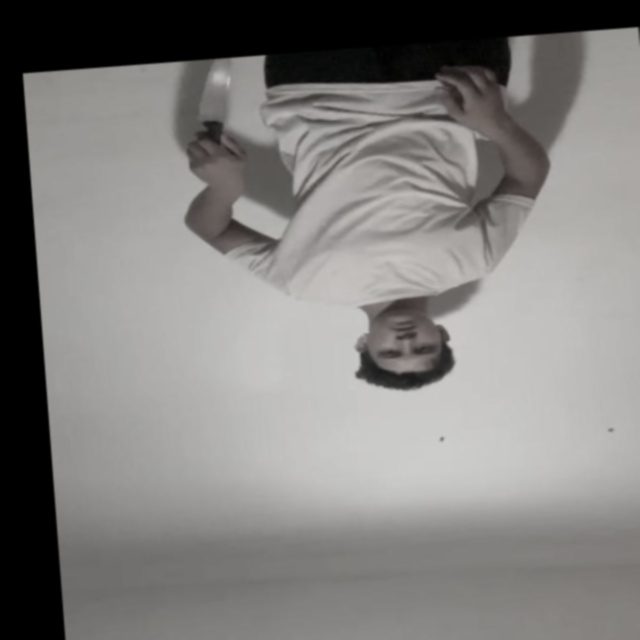Sharp-Object: (195, 58, 236, 124)
